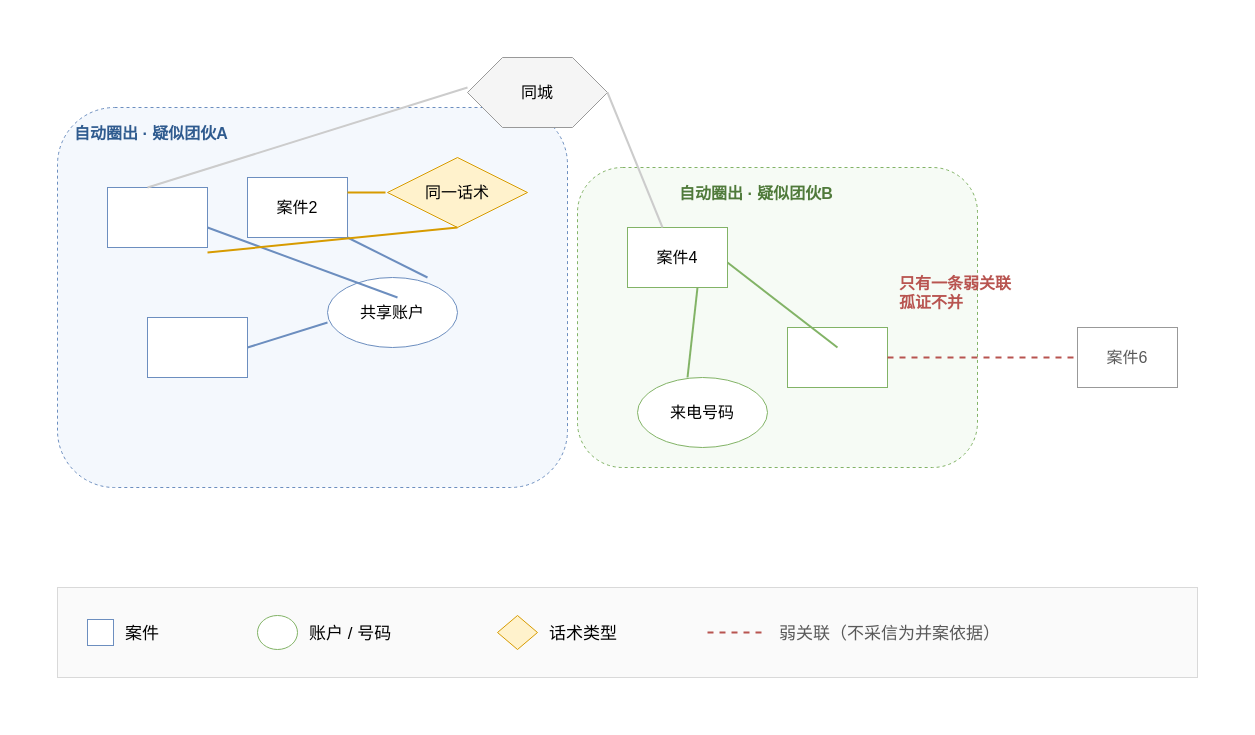
The diagram is 1255 pixels wide and 735 high, and some of its shapes have lost their labels. The centre of each missing label's shape, as x and y in pixels:
"案件1" belongs at point (157, 217).
"案件3" belongs at point (197, 347).
"案件5" belongs at point (837, 357).
